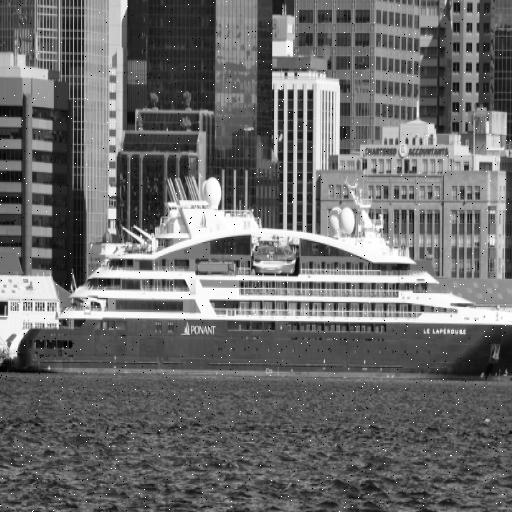cruises: (18, 169, 512, 391)
